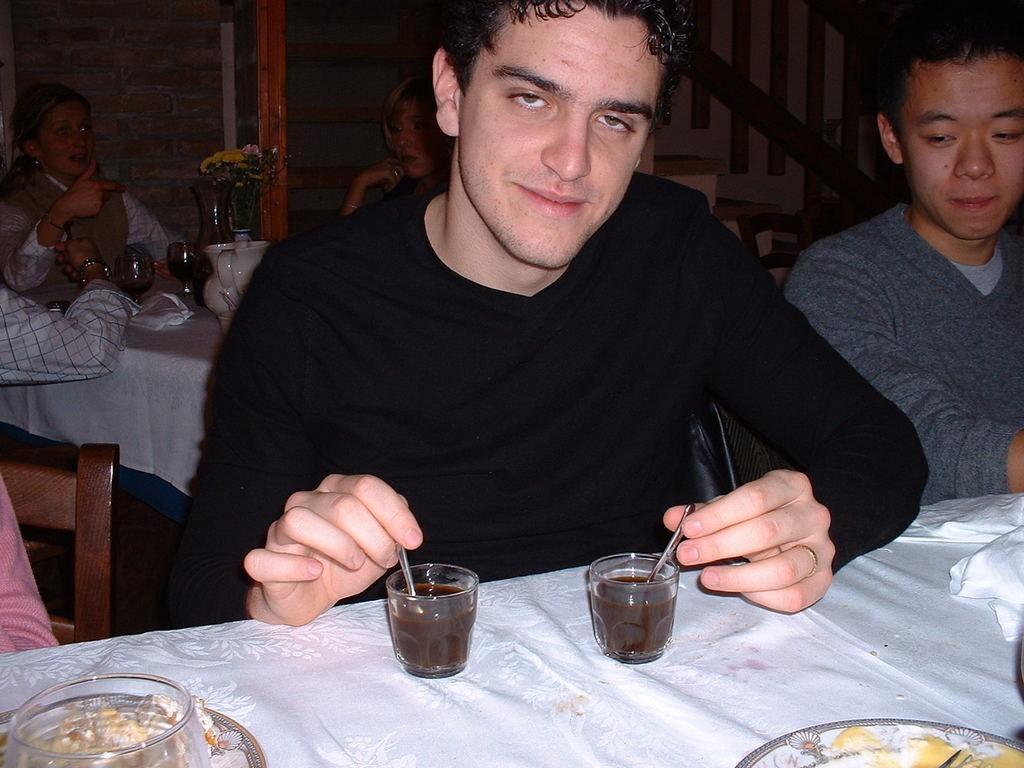Sem Máscara: (456, 0, 664, 267), (889, 46, 1021, 235), (33, 99, 91, 178), (387, 98, 438, 173)
